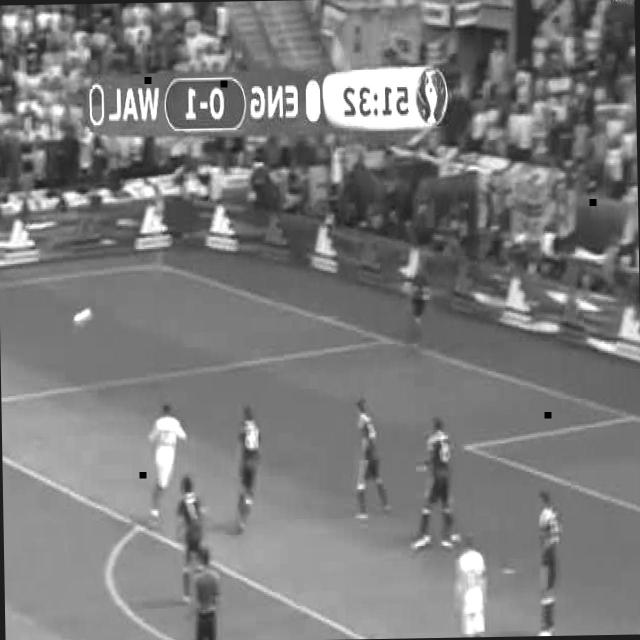ball: (73, 307, 91, 327)
player-white: (409, 418, 454, 552), (148, 402, 188, 524), (354, 398, 392, 522), (532, 489, 564, 636), (455, 528, 489, 638), (234, 404, 262, 533), (178, 475, 205, 605), (191, 547, 222, 640), (408, 258, 428, 351)
